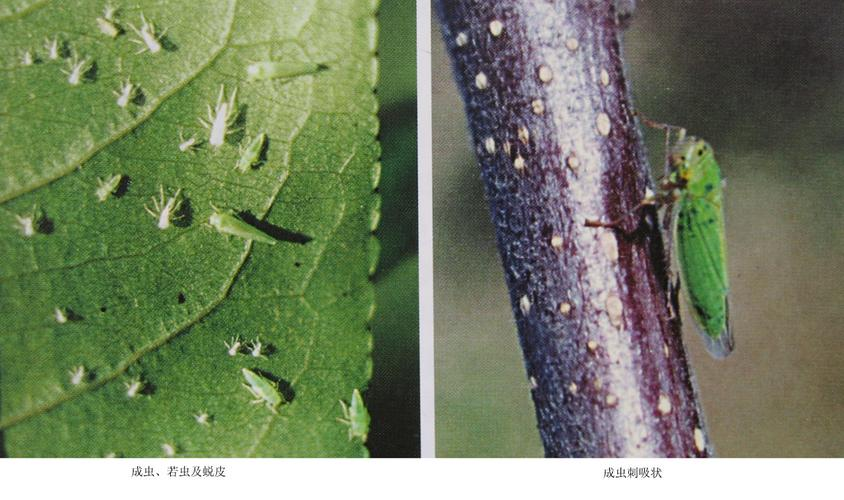Cicadellidae: (626, 112, 736, 361), (205, 201, 277, 247), (240, 51, 328, 81), (332, 387, 377, 443), (238, 366, 289, 413), (207, 84, 242, 146), (144, 184, 185, 230), (130, 7, 162, 56), (233, 132, 265, 172), (110, 74, 142, 108), (61, 52, 92, 85), (93, 172, 123, 203), (94, 14, 121, 41), (118, 373, 148, 397), (13, 208, 35, 238), (223, 332, 244, 359), (175, 129, 199, 152), (243, 334, 265, 359), (13, 46, 36, 69), (191, 406, 212, 431), (43, 35, 61, 64), (69, 362, 90, 384), (155, 436, 177, 456), (45, 305, 68, 323), (102, 1, 120, 17)
